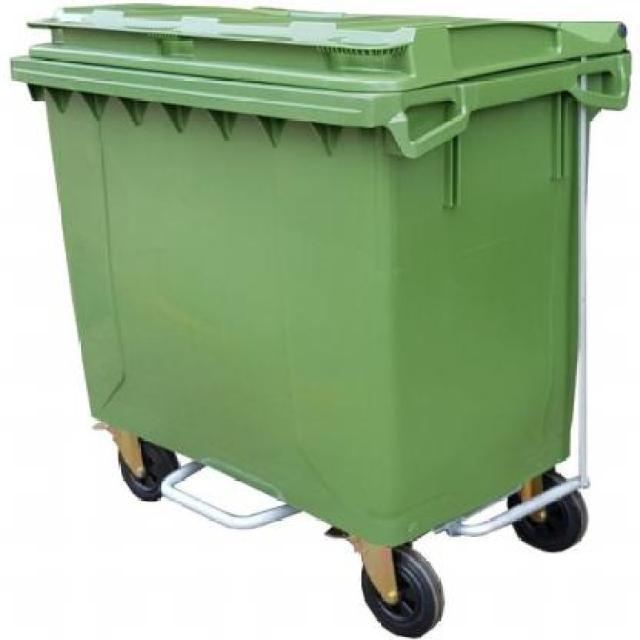garbage container: (2, 2, 638, 628)
